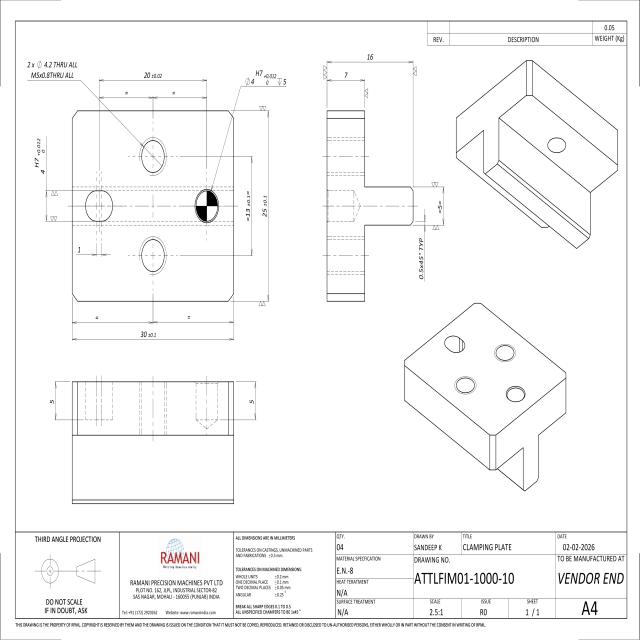dimension: (27, 59, 78, 80), (245, 68, 288, 86), (34, 135, 46, 176), (417, 236, 425, 281), (143, 69, 163, 80), (245, 189, 251, 223), (139, 328, 157, 339), (261, 194, 268, 218), (366, 52, 374, 62), (437, 199, 442, 215), (343, 69, 348, 80), (76, 245, 82, 254), (94, 313, 100, 322), (186, 313, 192, 321), (49, 398, 55, 406), (248, 398, 254, 406), (124, 89, 130, 96), (171, 89, 177, 96)
